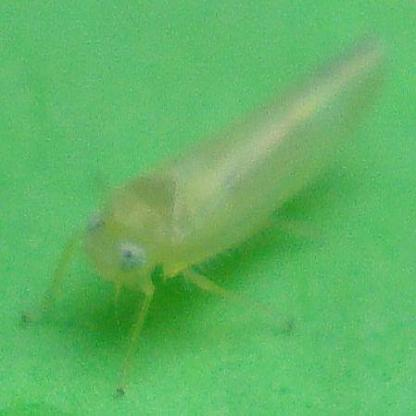green-leafhopper: (41, 35, 390, 380)
